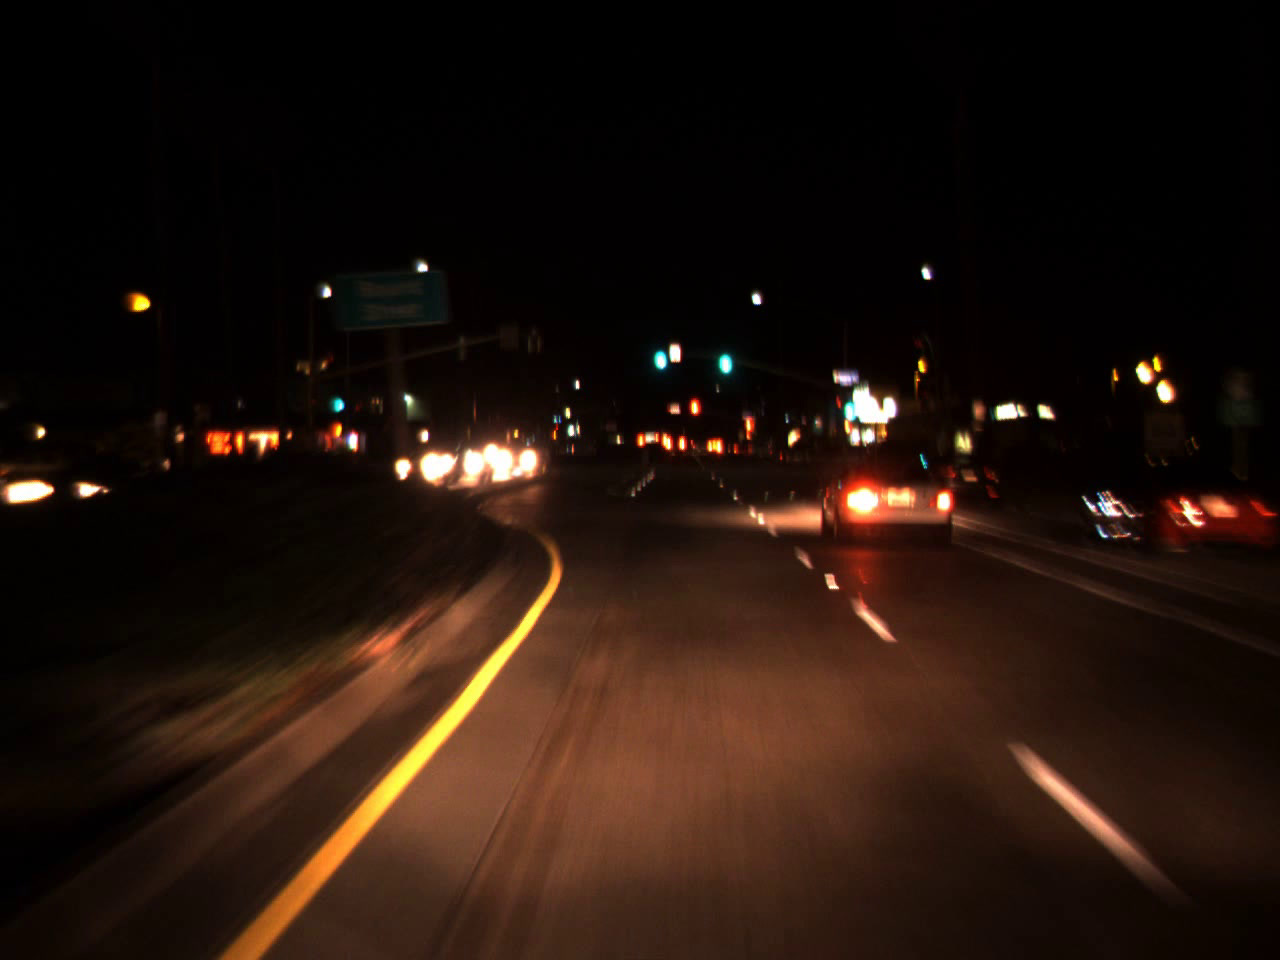go: (714, 328, 735, 382), (649, 328, 668, 376), (840, 386, 856, 422), (331, 383, 343, 416)
stop: (688, 396, 701, 436), (744, 415, 756, 447)
